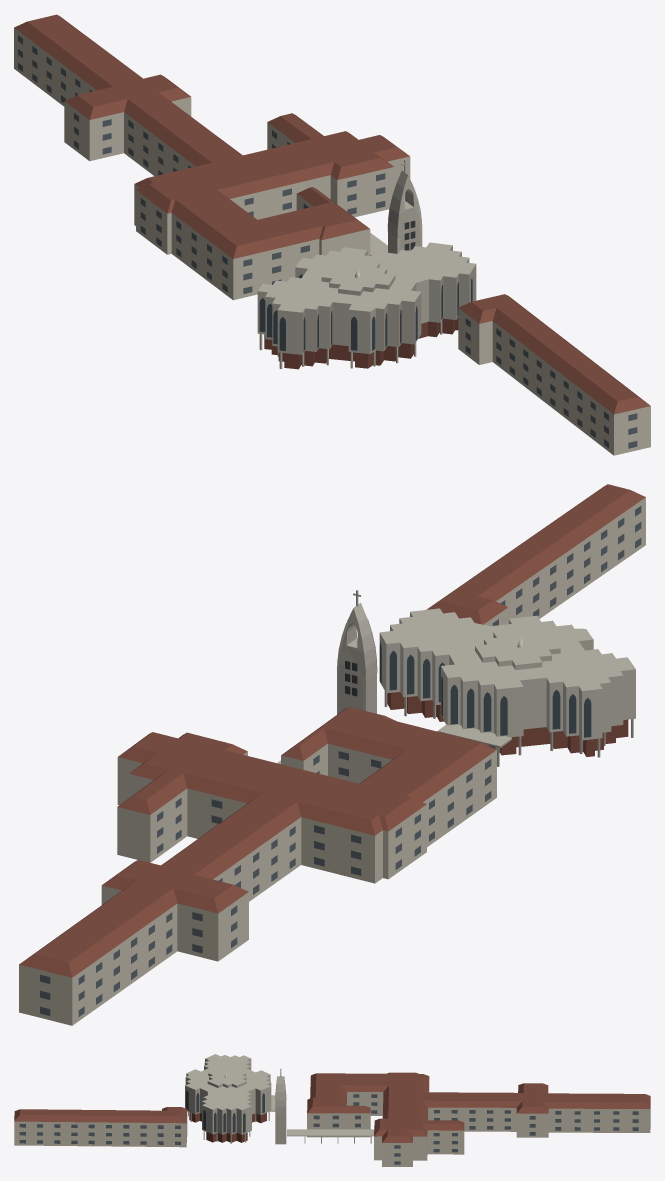
File: westminster-abbey-mission-far.glb
3 renders of one model, top to bottom at view 1: azimuth 30°, elevation 25°; view 2: azimuth 150°, elevation 25°; view 3: azimuth 270°, elevation 25°, orthographic. The views are drawn at different scales.
Visible parts, largest first — view 1: westminster-abbey-mission-0-roof, westminster-abbey-mission-0-wall, westminster-abbey-mission-0-concrete, westminster-abbey-mission-0-glass, westminster-abbey-mission-0-glow; view 2: westminster-abbey-mission-0-roof, westminster-abbey-mission-0-wall, westminster-abbey-mission-0-concrete, westminster-abbey-mission-0-glass, westminster-abbey-mission-0-glow; view 3: westminster-abbey-mission-0-roof, westminster-abbey-mission-0-wall, westminster-abbey-mission-0-concrete, westminster-abbey-mission-0-glass, westminster-abbey-mission-0-glow.
Boxes of the visible parts, box(x1,y1,x2,y2) form: westminster-abbey-mission-0-roof: box(14, 14, 650, 414); westminster-abbey-mission-0-wall: box(14, 28, 650, 455); westminster-abbey-mission-0-concrete: box(257, 159, 476, 368); westminster-abbey-mission-0-glass: box(18, 35, 637, 448); westminster-abbey-mission-0-glow: box(259, 274, 472, 351); westminster-abbey-mission-0-roof: box(19, 484, 645, 977); westminster-abbey-mission-0-wall: box(19, 497, 645, 1025); westminster-abbey-mission-0-concrete: box(277, 590, 635, 766); westminster-abbey-mission-0-glass: box(40, 506, 641, 1016); westminster-abbey-mission-0-glow: box(379, 642, 591, 737); westminster-abbey-mission-0-roof: box(14, 1072, 650, 1142); westminster-abbey-mission-0-wall: box(14, 1081, 650, 1166); westminster-abbey-mission-0-concrete: box(185, 1054, 374, 1144); westminster-abbey-mission-0-glass: box(19, 1094, 638, 1164); westminster-abbey-mission-0-glow: box(186, 1090, 264, 1132).
Bounding box in the file's own units: 72.95 × 31.2 × 250.
